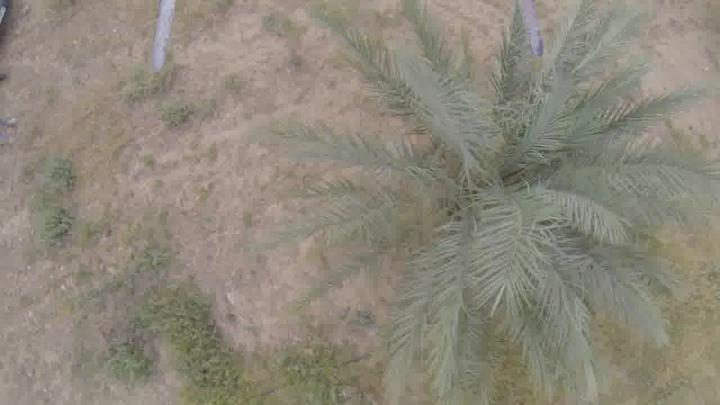Date-Palm-Crown: (408, 46, 634, 316)
